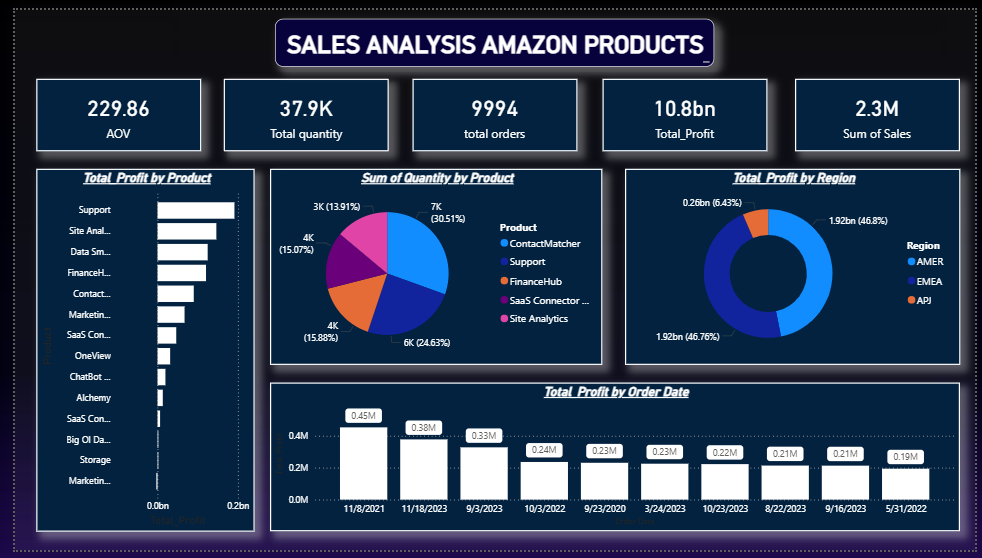

What the dashboard file says about the page in this screenshot:
{"tool":"powerbi","page":{"name":"Executive overview","canvas":[1280,720],"ordinal":0},"visuals":[{"type":"card","fields":{"Values":["Measure.Total quantity"]},"box":[278.6,91.4,220,97.1],"z":0},{"type":"textbox","title":"SALES ANALYSIS  AMAZON PRODUCTS","box":[347.1,11.4,585.7,64.3],"z":1000},{"type":"card","fields":{"Values":["Measure.total orders"]},"box":[530,91.4,220,97.1],"z":2000},{"type":"card","fields":{"Values":["Sum(Order.Sales)"]},"box":[1040,91.4,220,97.1],"z":3000},{"type":"card","fields":{"Values":["Order.Total_Profit"]},"box":[782.9,91.4,220,97.1],"z":4000},{"type":"pieChart","fields":{"Category":["Products.Product"],"Y":["Sum(Order.Quantity)"]},"box":[340,211.4,442.9,261.4],"z":6000},{"type":"donutChart","fields":{"Category":["Customer.Region"],"Y":["Order.Total_Profit"]},"box":[812.9,211.4,447.1,261.4],"z":7000},{"type":"lineStackedColumnComboChart","fields":{"Category":["Order.Order Date"],"Y":["Order.Total_Profit"]},"box":[340,497.1,920,198.6],"z":8000},{"type":"card","fields":{"Values":["Order.AOV"]},"box":[28.6,91.4,220,97.1],"z":8001},{"type":"clusteredBarChart","fields":{"Category":["Products.Product"],"Y":["Order.Total_Profit"]},"box":[28.6,211.4,291.4,484.3],"z":8002}]}

Visuals, with their boxes in screenshot pixels (x1, y1, x2, y2), scaled from the page's 1280x720 canvas onto the 982x558 screenshot:
card - Measure.Total quantity: (x1=214, y1=71, x2=383, y2=146)
"SALES ANALYSIS  AMAZON PRODUCTS" textbox: (x1=266, y1=9, x2=716, y2=59)
card - Measure.total orders: (x1=407, y1=71, x2=575, y2=146)
card - Sum(Order.Sales): (x1=798, y1=71, x2=967, y2=146)
card - Order.Total_Profit: (x1=601, y1=71, x2=769, y2=146)
pieChart - Products.Product x Sum(Order.Quantity): (x1=261, y1=164, x2=601, y2=366)
donutChart - Customer.Region x Order.Total_Profit: (x1=624, y1=164, x2=967, y2=366)
lineStackedColumnComboChart - Order.Order Date x Order.Total_Profit: (x1=261, y1=385, x2=967, y2=539)
card - Order.AOV: (x1=22, y1=71, x2=191, y2=146)
clusteredBarChart - Products.Product x Order.Total_Profit: (x1=22, y1=164, x2=246, y2=539)
